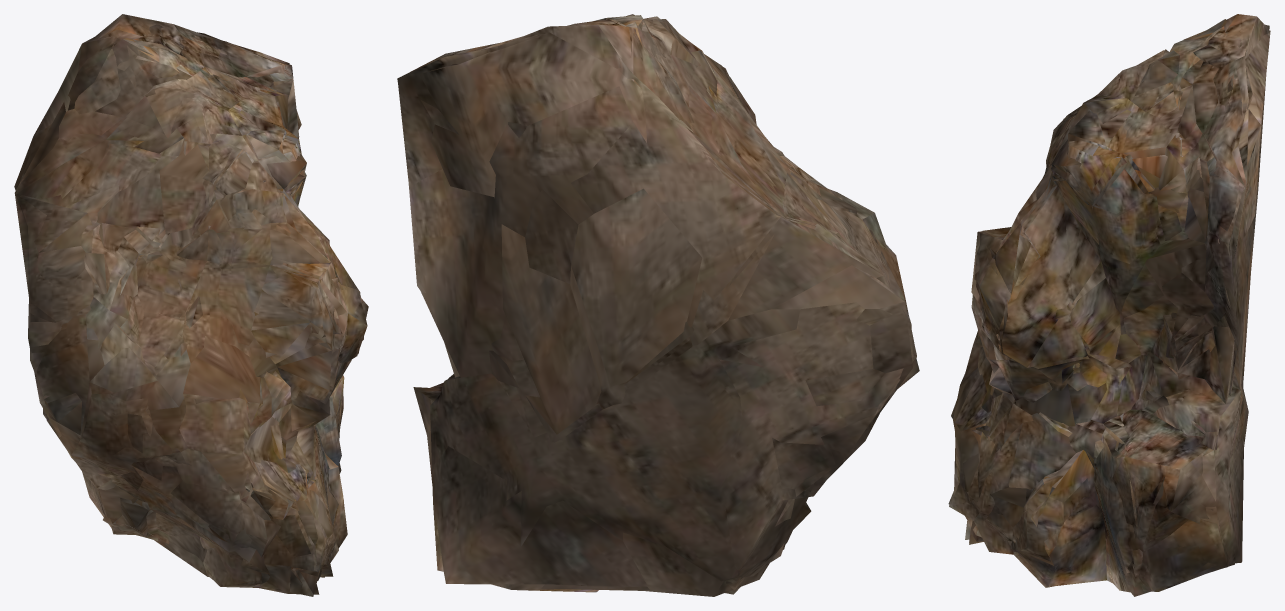
File: boulder_01.glb
3 renders of one model, left to right at view 1: azimuth 30°, elevation 25°; view 2: azimuth 150°, elevation 25°; view 3: azimuth 270°, elevation 25°, orthographic. The views are drawn at different scales.
Parts seen in each view (by area): view 1: boulder_01_LOD0; view 2: boulder_01_LOD0; view 3: boulder_01_LOD0.
Boxes of the visible parts, <box> form: boulder_01_LOD0: <box>14,14,368,596</box>; boulder_01_LOD0: <box>397,14,919,596</box>; boulder_01_LOD0: <box>948,14,1270,596</box>.
Bounding box in the file's own units: 2.42 × 3.4 × 1.88.
Materials: 1 (1 with a texture image).
